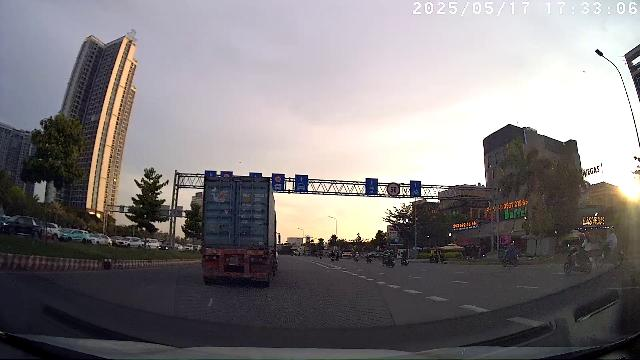127-toc-do-toi-da-50: (386, 182, 401, 196)
